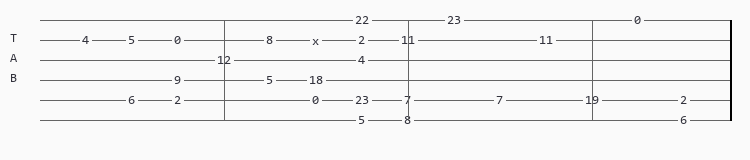0: (174, 34, 185, 46), (312, 94, 323, 106), (634, 14, 645, 26)
11: (401, 34, 419, 46), (539, 34, 557, 46)
12: (217, 54, 235, 66)
18: (309, 74, 327, 86)
19: (585, 94, 603, 106)
2: (174, 94, 185, 106), (358, 34, 369, 46), (680, 94, 691, 106)
22: (355, 14, 373, 26)
23: (355, 94, 373, 106), (447, 14, 465, 26)
4: (82, 34, 93, 46), (358, 54, 369, 66)
5: (128, 34, 139, 46), (266, 74, 277, 86), (358, 114, 369, 126)
6: (128, 94, 139, 106), (680, 114, 691, 126)
7: (404, 94, 415, 106), (496, 94, 507, 106)
8: (266, 34, 277, 46), (404, 114, 415, 126)
9: (174, 74, 185, 86)
x: (312, 35, 323, 45)
